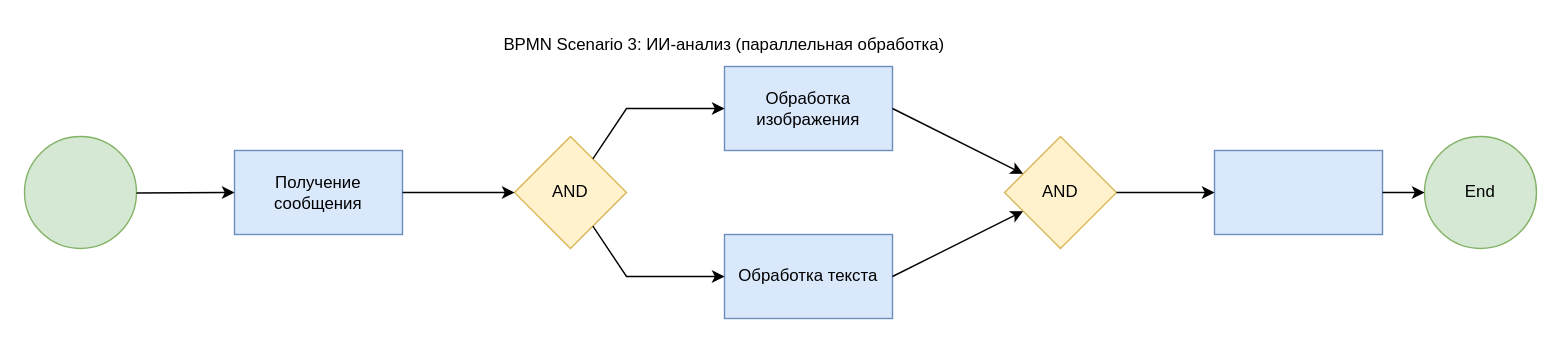
Some shapes in this 1561 by 343 pixel diagram are drawn without their labels. The centre of each missing label's shape, as x and y in pixels:
"Start" goes at point 79,191.
"Агрегация результатов" goes at point 1297,191.
